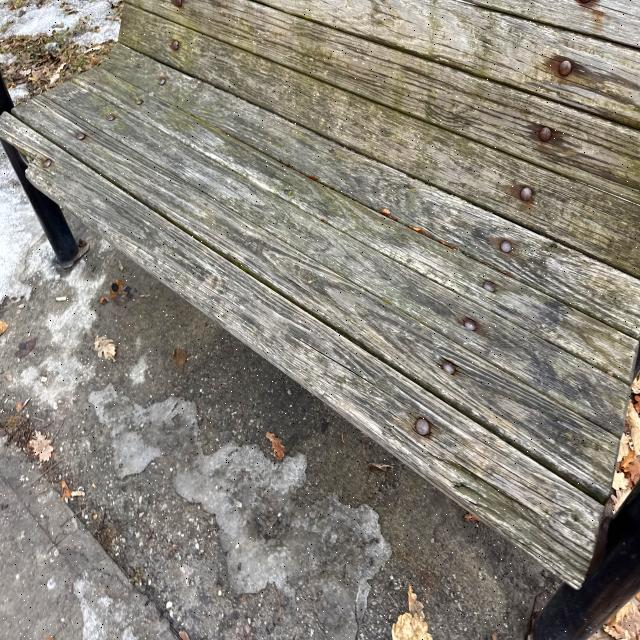Bench: (8, 2, 638, 362), (332, 0, 640, 592)
